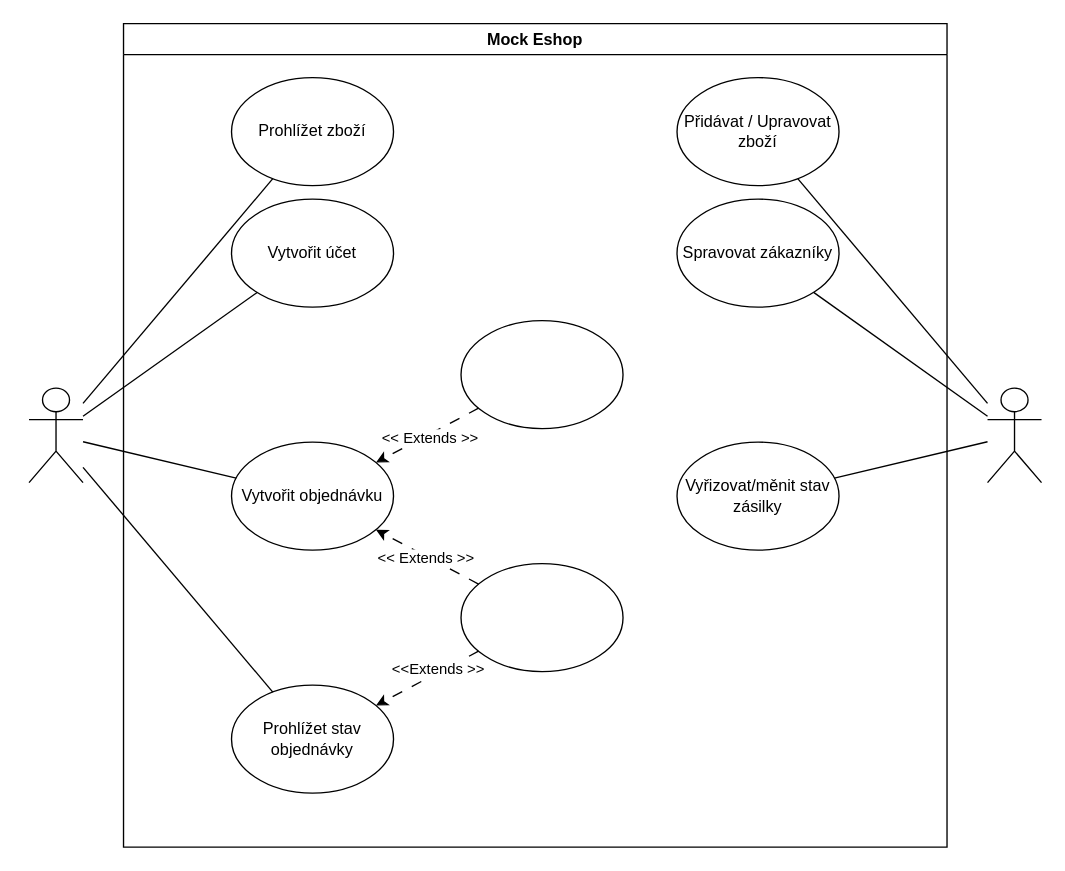
This 1065x871 diagram has some shape labels left out. The shapes that lost their labels are listed below. From the top down, each one's box as (x1, y1, x2, y2) in pixels, then its label:
(460, 319, 623, 429): Přidat zboží do objednávky
(28, 387, 83, 483): Zákazník
(986, 387, 1042, 483): Admin
(460, 562, 623, 672): Přihlásit se k účtu
